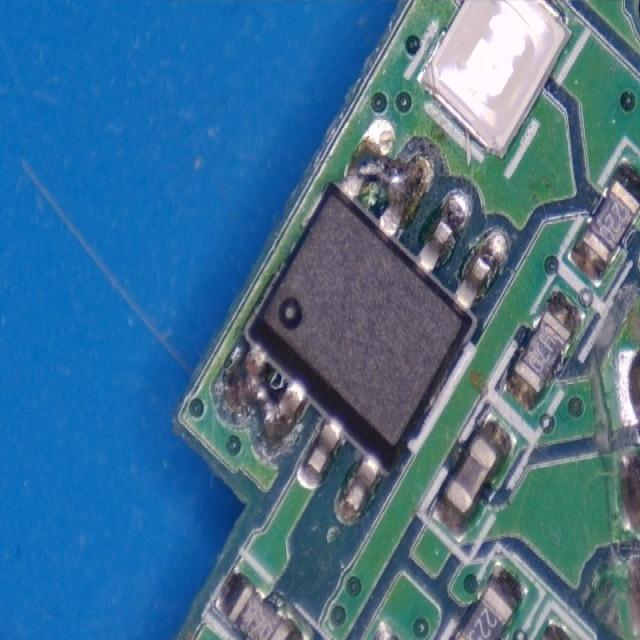Short_circuit: (339, 120, 430, 239), (227, 340, 306, 439)
